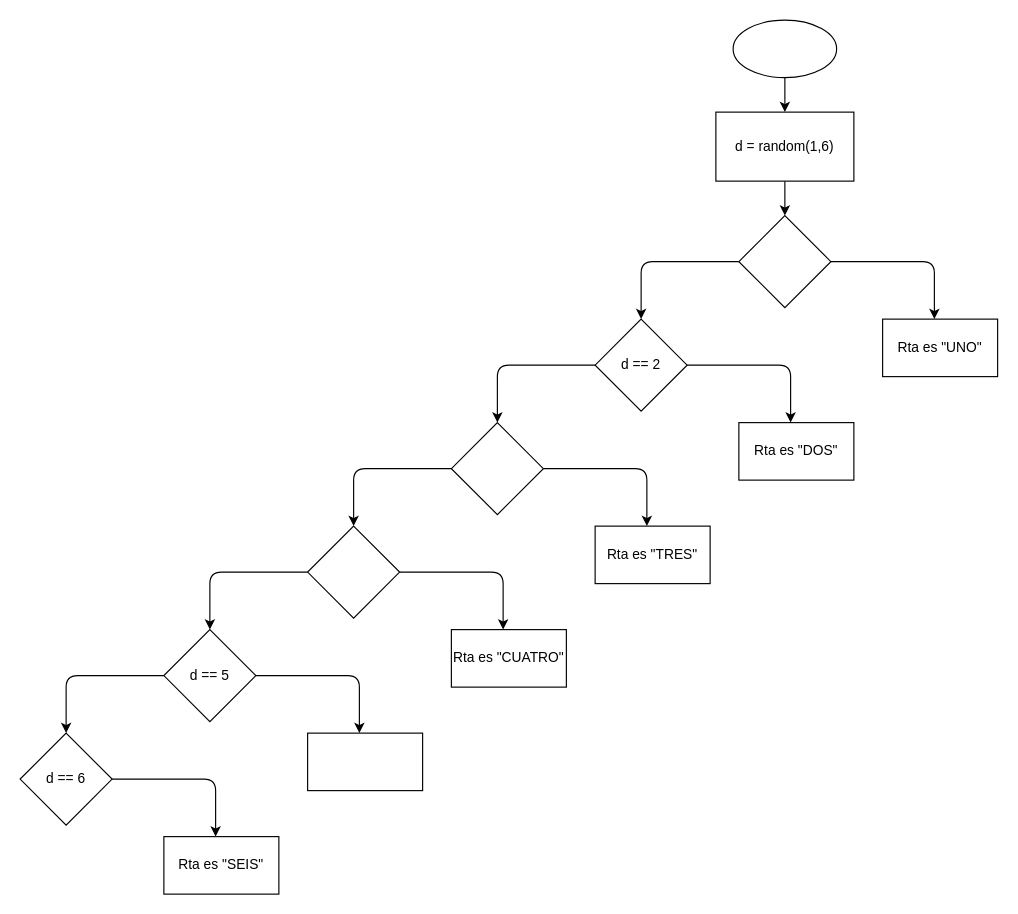
The diagram is 1018 pixels wide and 914 high, and some of its shapes have lost their labels. The box of each missing label's shape, as (x1, y1, x2, y2) in pixels:
d == 1: (738, 214, 831, 308)
d == 3: (450, 421, 543, 515)
d == 4: (306, 525, 400, 618)
INICIO: (732, 19, 837, 78)
Rta es "CINCO": (306, 732, 423, 791)
